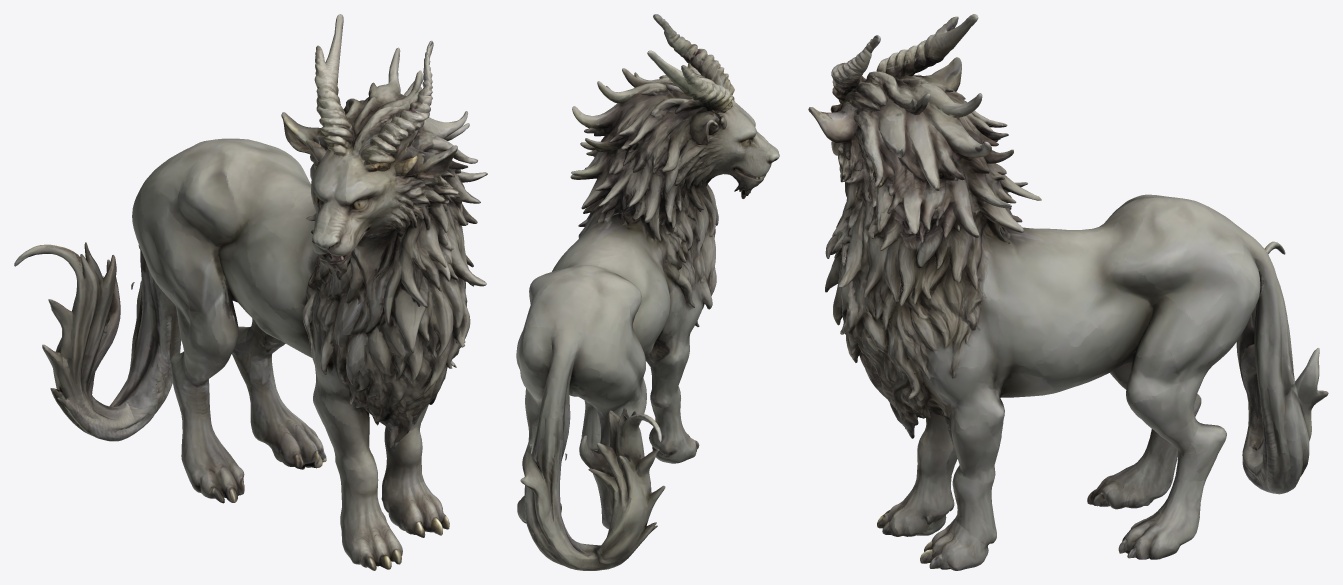
File: chimera__lion-goat-serpent.glb
The picture shows the model from 3 angles, left to right: view 1: azimuth 30°, elevation 25°; view 2: azimuth 150°, elevation 25°; view 3: azimuth 270°, elevation 25°; orthographic projection. The views are drawn at different scales.
Size of the model in its own units: 1.1 by 1.9 by 1.75.
1 material, 1 textured.
